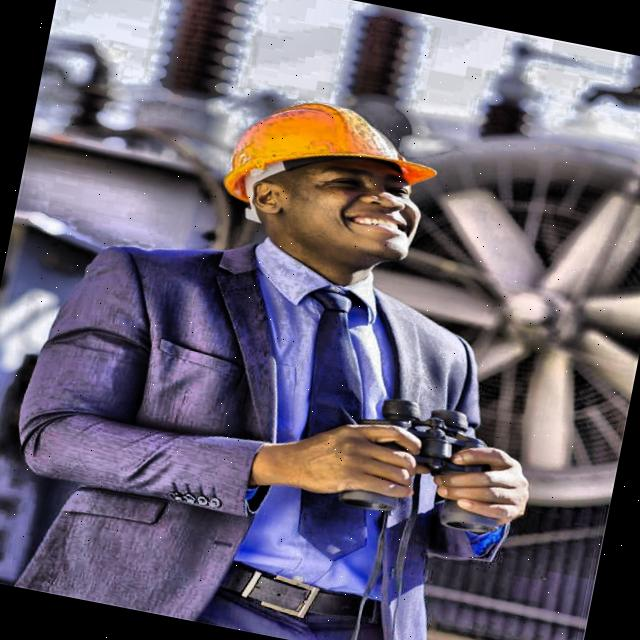helmet: (182, 62, 466, 290)
